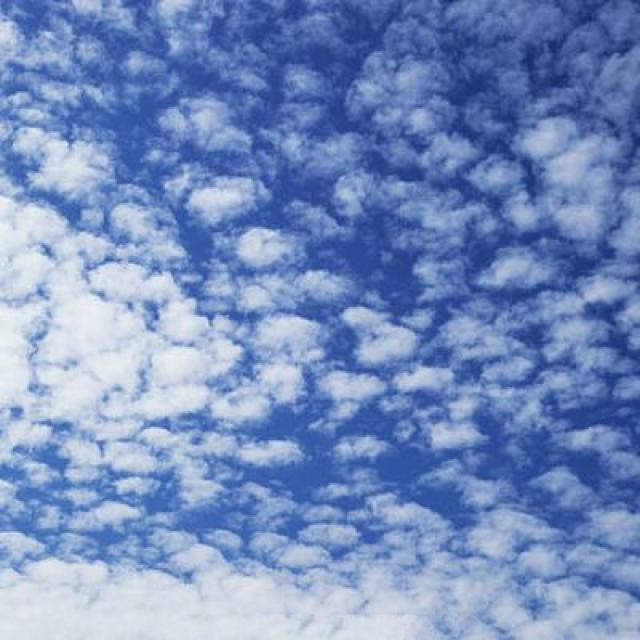Cc: (11, 30, 640, 602)
